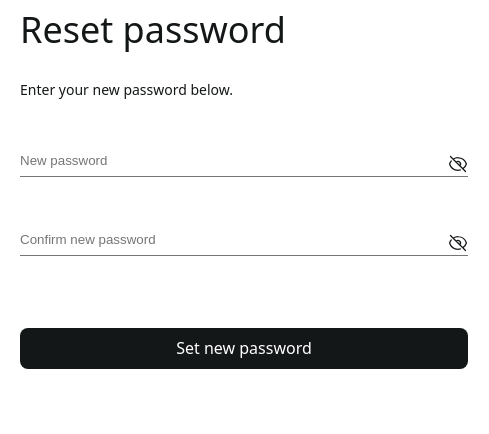
Scenario: Feature: ResetPasswordPage › shows fallback error when non-Error is thrown
Type "Strongpass1!" into the password field with placeholder "New password" at (244, 164), box [20,152,468,177]
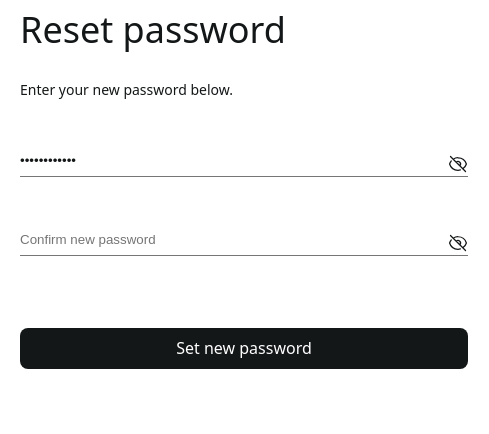
Type "Strongpass1!" into the password field with placeholder "Confirm new password" at (244, 243), box [20,231,468,256]
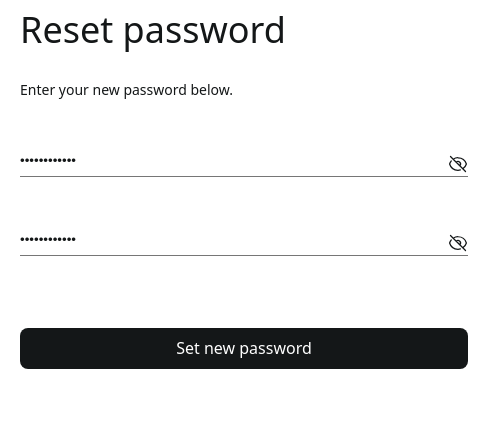
Click the button "Set new password" at (244, 348), box [20,328,468,369]
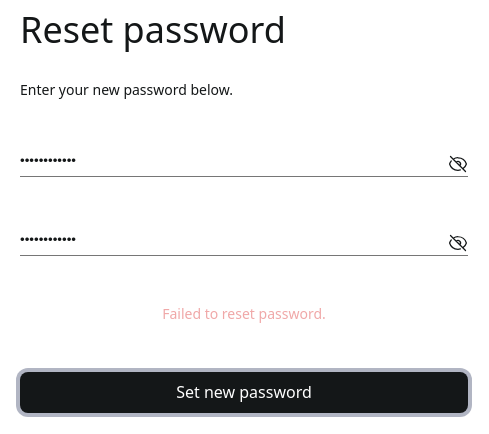
Expected: the text "Failed to reset password." is shown, [162,304,326,323]
